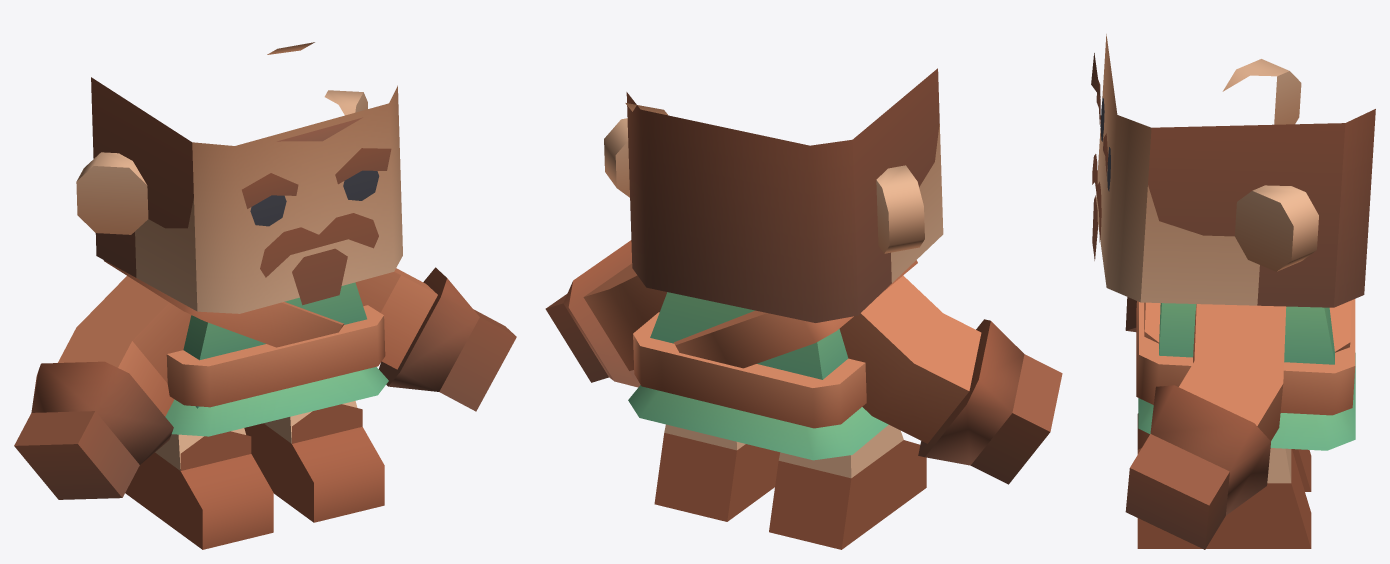
File: toy-soldier-boss-body.glb
3 views of the same model, side by side, from view 1: azimuth 30°, elevation 25°; view 2: azimuth 150°, elevation 25°; view 3: azimuth 270°, elevation 25° (orthographic). The views are drawn at different scales.
Size of the model in its own units: 0.9076 by 0.725 by 0.4336.
Materials: 1 (1 with a texture image).
